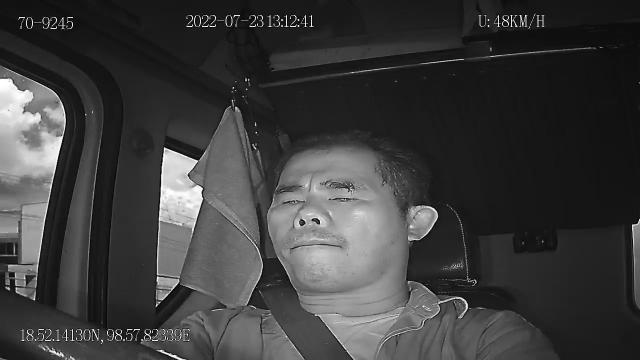SafeDriving: (321, 184, 366, 209), (272, 190, 308, 214)
Seatbelt: (257, 282, 357, 360)
